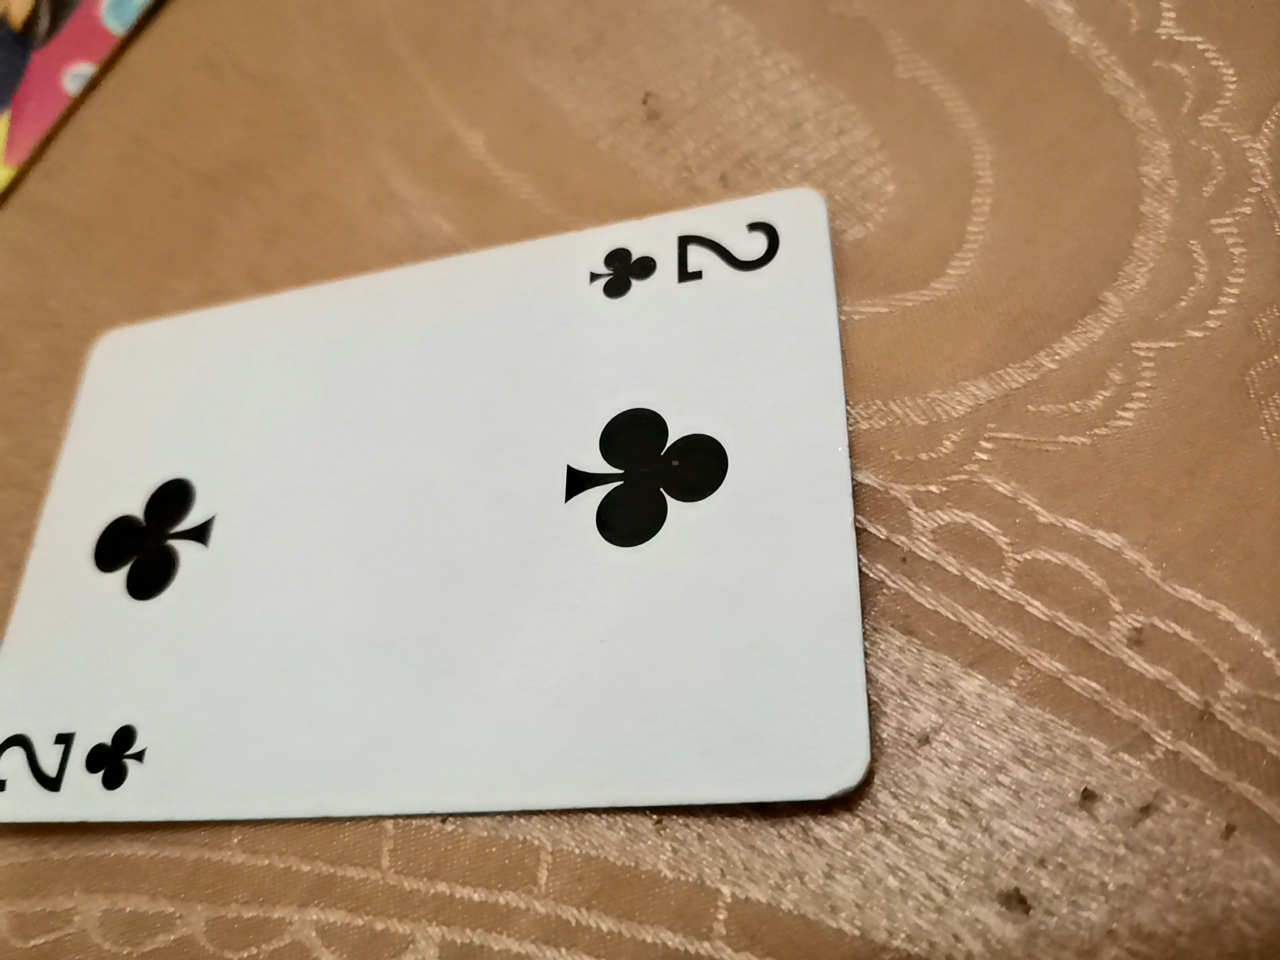mh 2: (5, 210, 862, 846)
